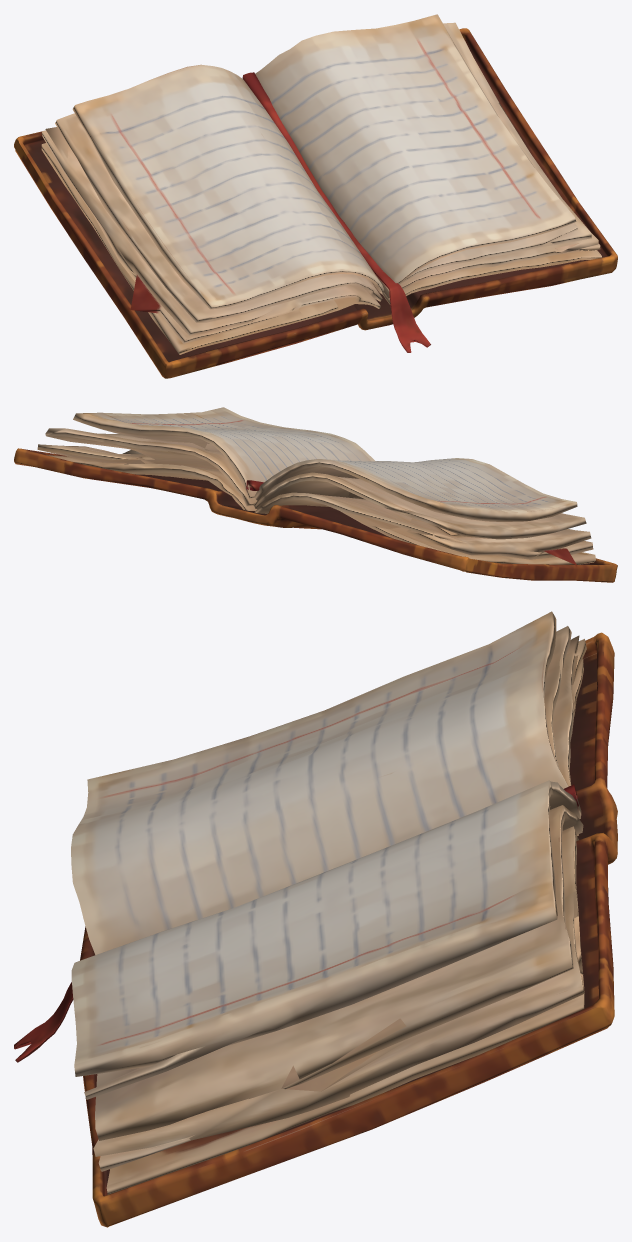
File: ledger.glb
3 views of the same model, one above another, from view 1: azimuth 30°, elevation 25°; view 2: azimuth 150°, elevation 25°; view 3: azimuth 270°, elevation 25° (orthographic). The views are drawn at different scales.
Parts seen in each view (by area): view 1: geometry_0; view 2: geometry_0; view 3: geometry_0.
Part boxes in pixels (x1,y1,x2,y2): geometry_0: (14, 14, 617, 378); geometry_0: (14, 407, 617, 582); geometry_0: (14, 611, 617, 1227).
Bounding box in the file's own units: 1 × 0.3969 × 0.6876.
1 material, 1 textured.
